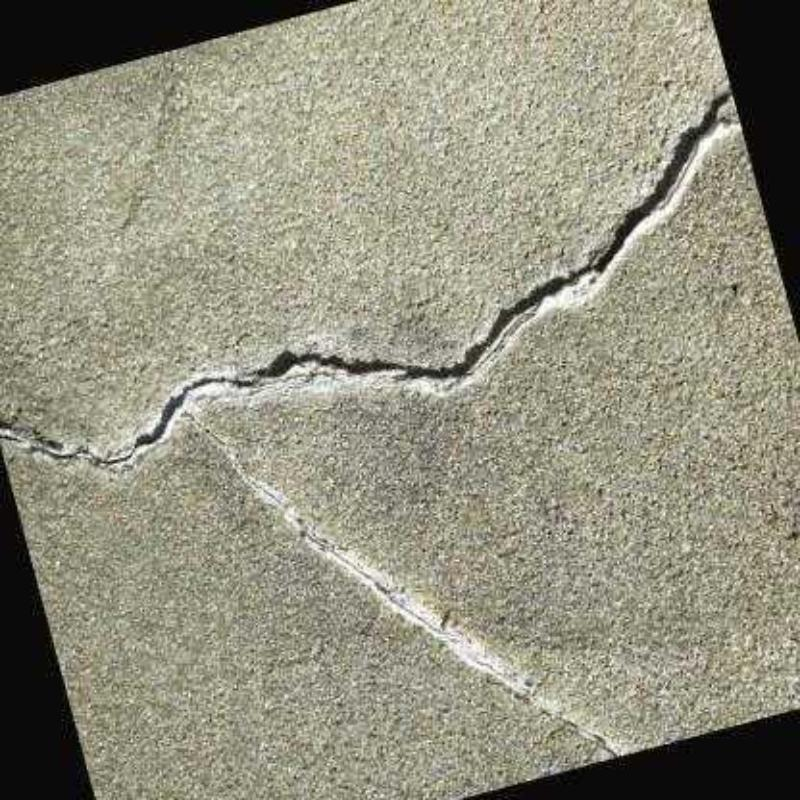pothole: (4, 92, 734, 466), (181, 408, 618, 757)
